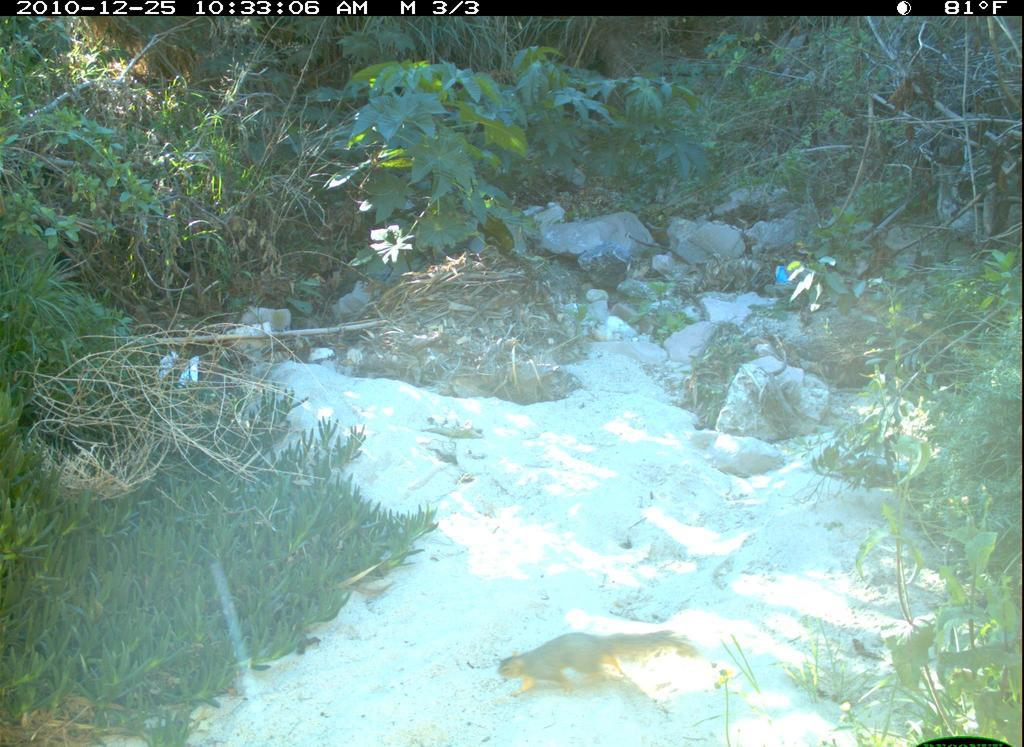squirrel: (482, 620, 719, 707)
